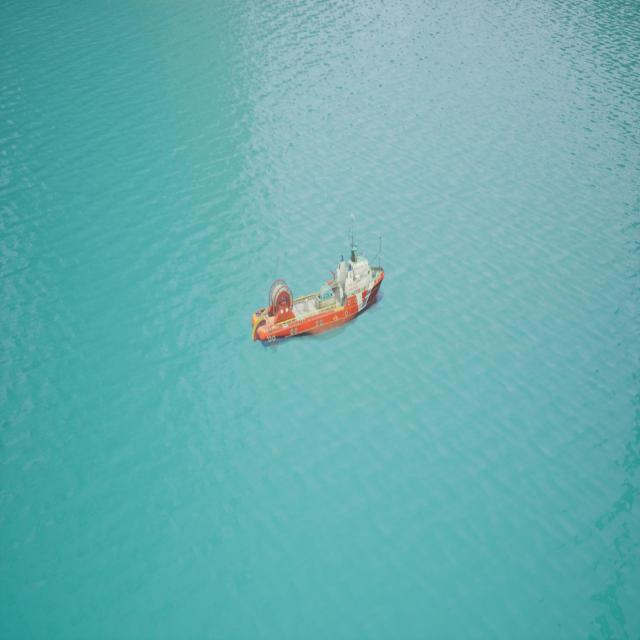tug boat: (254, 251, 387, 347)
